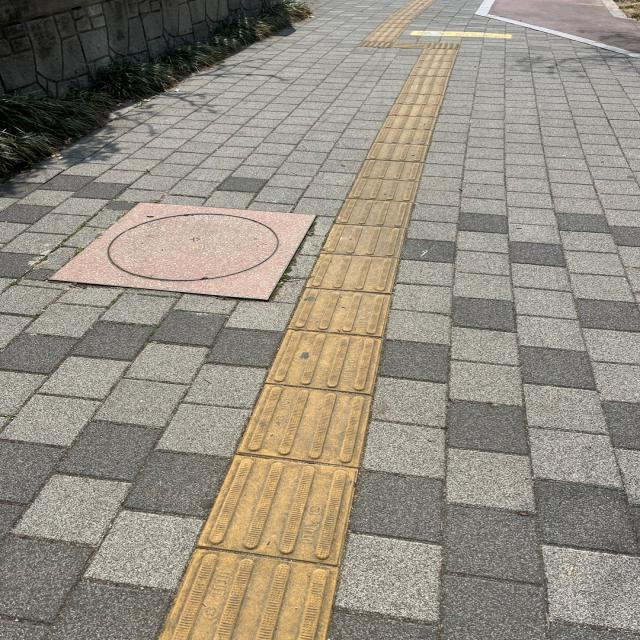Sewer Cover: (43, 192, 325, 314)
